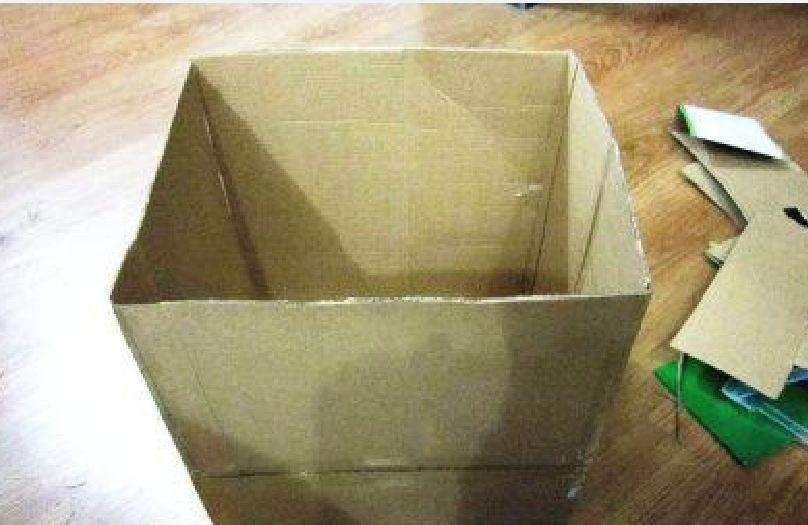cardboard: (111, 43, 649, 525), (656, 226, 808, 468), (662, 98, 808, 234)
